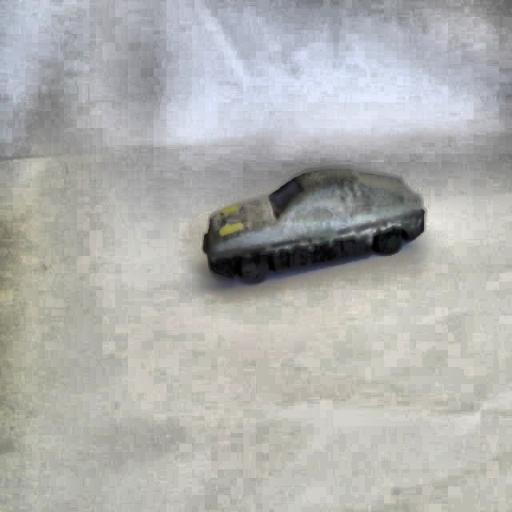normal_car: (200, 162, 428, 286)
